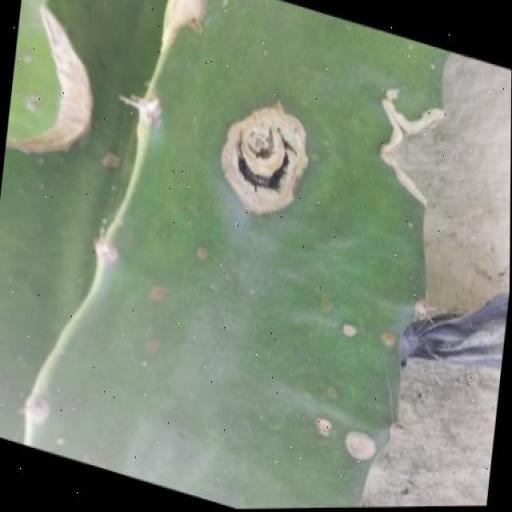stemcanker: (165, 98, 191, 128), (302, 228, 322, 260), (338, 175, 362, 200), (151, 198, 173, 222), (113, 202, 134, 226), (163, 134, 181, 158), (178, 216, 192, 240)
